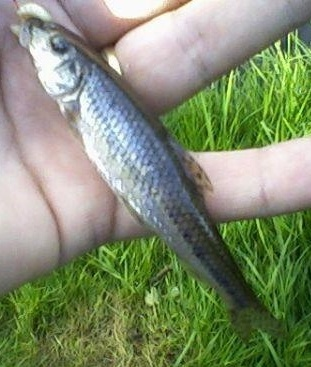Gobio gobio: (20, 16, 291, 347)
